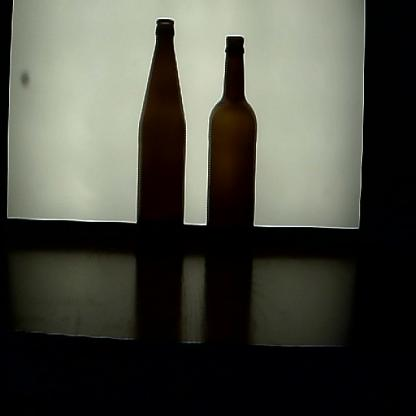Can: (132, 16, 191, 280), (202, 33, 259, 270)
